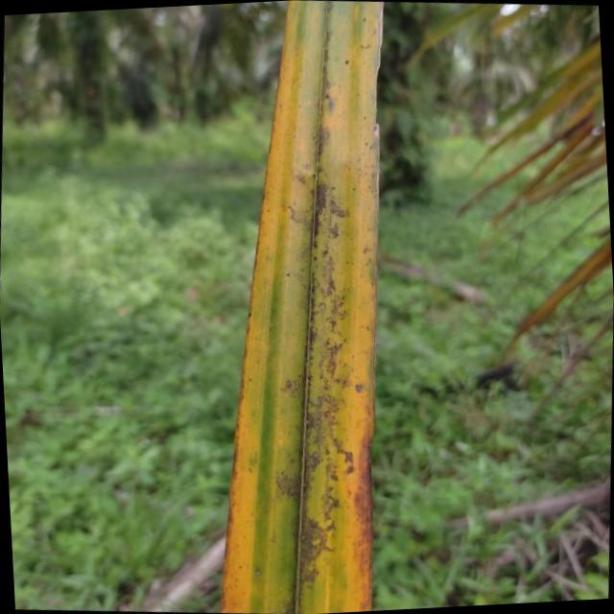Megnesium: (216, 0, 384, 604)
